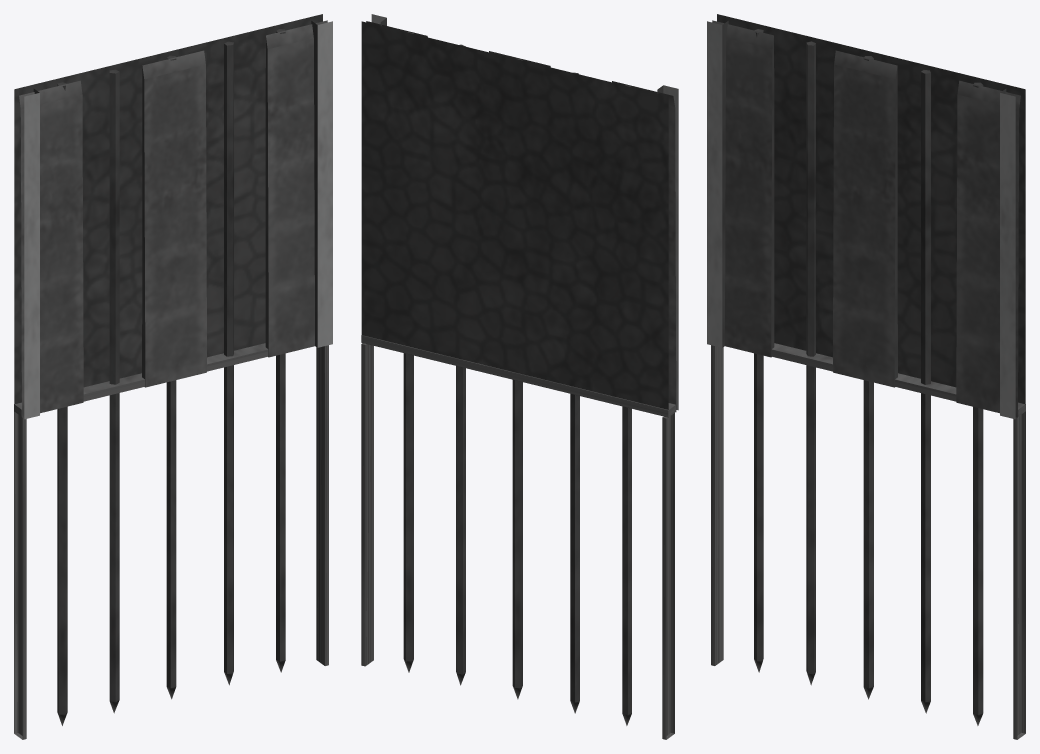
File: Mesh_gate_temple_TL.fbx
The picture shows the model from 3 angles, left to right: view 1: azimuth 30°, elevation 25°; view 2: azimuth 150°, elevation 25°; view 3: azimuth 330°, elevation 25°; orthographic projection.
Parts seen in each view (by area): view 1: Mesh_gate_temple_upper_TL, Mesh_spikes_temple_lower_TL; view 2: Mesh_gate_temple_upper_TL, Mesh_spikes_temple_lower_TL; view 3: Mesh_gate_temple_upper_TL, Mesh_spikes_temple_lower_TL.
Part boxes in pixels (x1,y1,x2,y2): Mesh_gate_temple_upper_TL: [14, 14, 332, 739]; Mesh_spikes_temple_lower_TL: [57, 29, 285, 725]; Mesh_gate_temple_upper_TL: [361, 14, 678, 739]; Mesh_spikes_temple_lower_TL: [403, 32, 631, 725]; Mesh_gate_temple_upper_TL: [707, 14, 1025, 739]; Mesh_spikes_temple_lower_TL: [754, 29, 983, 725].
Bounding box in the file's own units: 200 × 400 × 12.76.
Materials: 1 (1 with a texture image).
